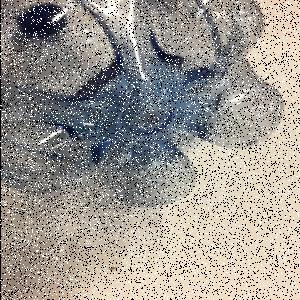Plastic-bottle: (2, 2, 286, 210)
